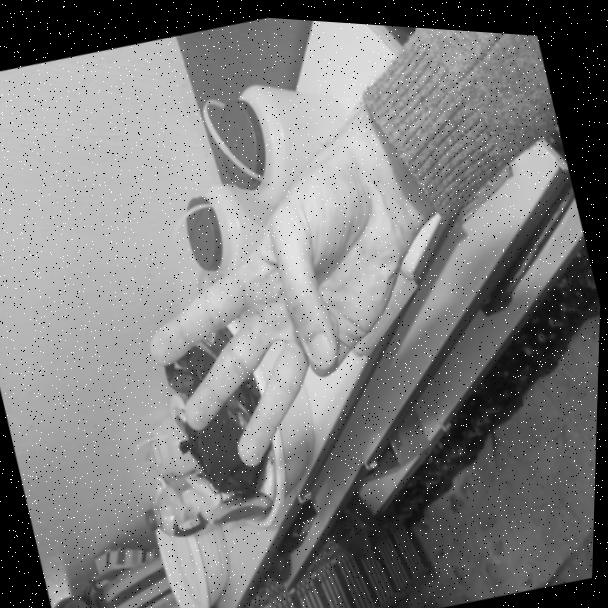five: (114, 140, 472, 502)
